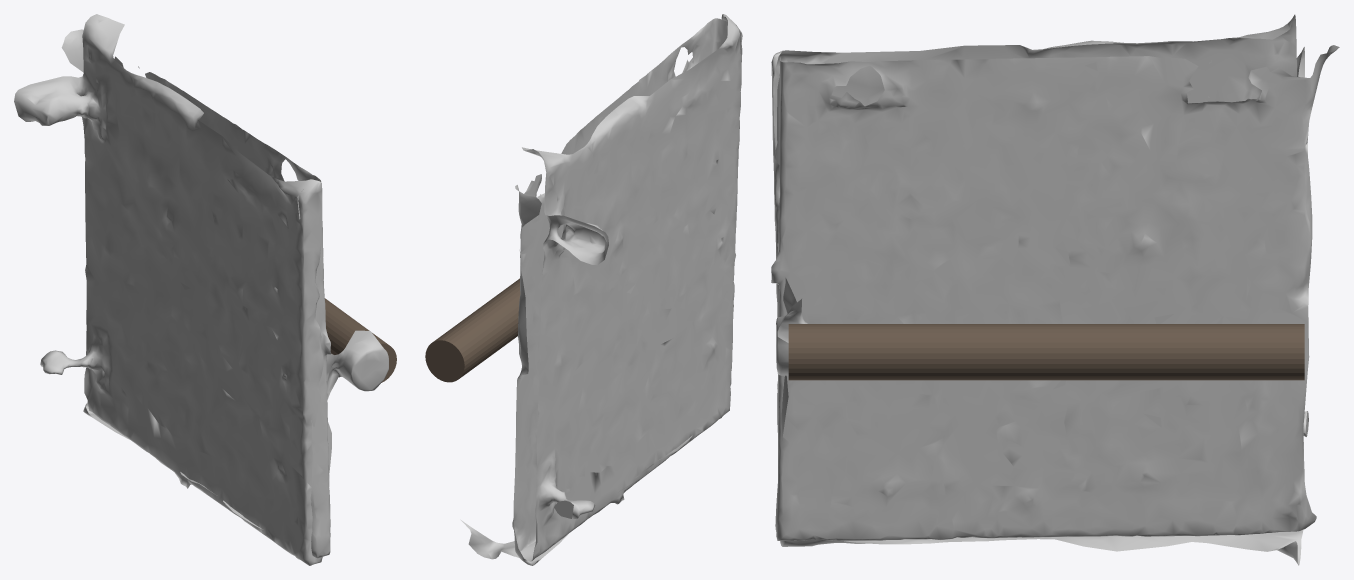
File: ikea_door.dae
3 renders of one model, left to right at view 1: azimuth 30°, elevation 25°; view 2: azimuth 150°, elevation 25°; view 3: azimuth 270°, elevation 25°, orthographic. The views are drawn at different scales.
Parts seen in each view (by area): view 1: ikea_door_002_005_003, ikea_door_002_005_001, ikea_door_002_005; view 2: ikea_door_002_005_003, ikea_door_002_005_001, ikea_door_002_005; view 3: ikea_door_002_005_001, ikea_door_002_005, ikea_door_002_005_003.
Boxes of the visible parts, x1=… form: ikea_door_002_005_003: x1=14, y1=14, x2=388, y2=565; ikea_door_002_005_001: x1=61, y1=29, x2=330, y2=558; ikea_door_002_005: x1=325, y1=298, x2=396, y2=382; ikea_door_002_005_003: x1=460, y1=14, x2=742, y2=561; ikea_door_002_005_001: x1=512, y1=18, x2=741, y2=565; ikea_door_002_005: x1=425, y1=278, x2=520, y2=382; ikea_door_002_005_001: x1=771, y1=45, x2=1339, y2=540; ikea_door_002_005: x1=788, y1=324, x2=1304, y2=380; ikea_door_002_005_003: x1=771, y1=14, x2=1308, y2=565.
Size of the model in its own units: 0.1728 by 0.3724 by 0.3756.
